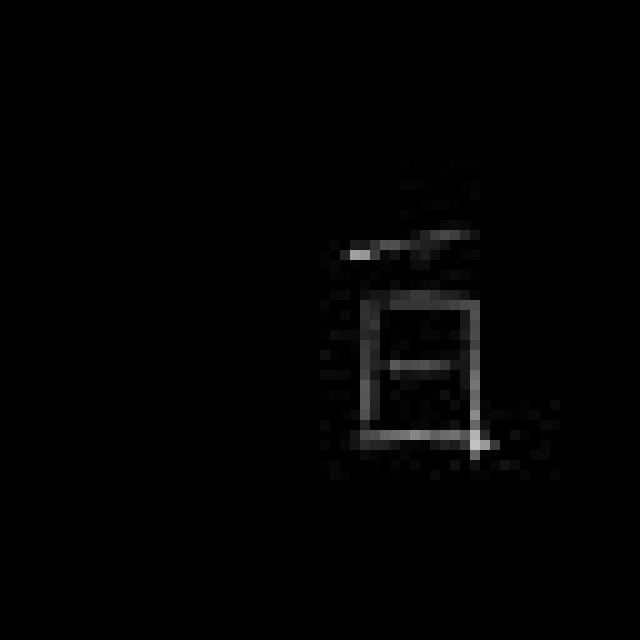100 -a hundred-: (337, 214, 503, 472)
